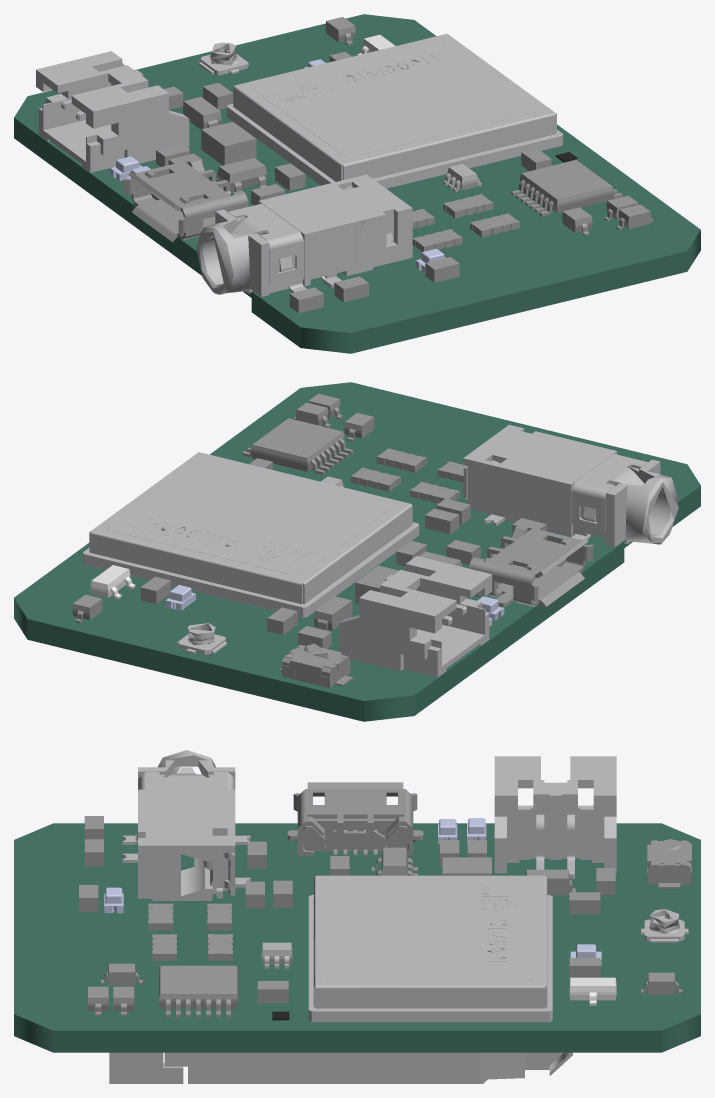
Rendered from ada-1946.glb.
3 views of the same model, one above another, from view 1: azimuth 30°, elevation 25°; view 2: azimuth 150°, elevation 25°; view 3: azimuth 270°, elevation 25° (orthographic). The views are drawn at different scales.
Parts seen in each view (by area): view 1: 0.5833333333333334_0.5833333333333334_0.5833333333333334_0.8, 0.08333333333333333_0.16666666666666666_0.16666666666666666_, 0.3333333333333333_0.3333333333333333_0.3333333333333333_0, 0.5833333333333334_0.6666666666666666_0.8333333333333334_0, 0.5_0.5_0.5_0.85; view 2: 0.5833333333333334_0.5833333333333334_0.5833333333333334_0.8, 0.08333333333333333_0.16666666666666666_0.16666666666666666_, 0.3333333333333333_0.3333333333333333_0.3333333333333333_0, 0.9166666666666666_0.9166666666666666_0.9166666666666666_0.8, 0.5833333333333334_0.6666666666666666_0.8333333333333334_0; view 3: 0.08333333333333333_0.16666666666666666_0.16666666666666666_, 0.5833333333333334_0.5833333333333334_0.5833333333333334_0.8, 0.3333333333333333_0.3333333333333333_0.3333333333333333_0, 0.5833333333333334_0.6666666666666666_0.8333333333333334_0, 0.9166666666666666_0.9166666666666666_0.9166666666666666_0.8, 0.5_0.5_0.5_0.85.
Part boxes in pixels (x1,y1,x2,y2): 0.5833333333333334_0.5833333333333334_0.5833333333333334_0.8: (36, 33, 563, 296); 0.08333333333333333_0.16666666666666666_0.16666666666666666_: (14, 14, 700, 353); 0.3333333333333333_0.3333333333333333_0.3333333333333333_0: (122, 17, 653, 312); 0.5833333333333334_0.6666666666666666_0.8333333333333334_0: (110, 59, 445, 272); 0.5_0.5_0.5_0.85: (443, 164, 481, 192); 0.5833333333333334_0.5833333333333334_0.5833333333333334_0.8: (82, 424, 678, 677); 0.08333333333333333_0.16666666666666666_0.16666666666666666_: (14, 382, 700, 721); 0.3333333333333333_0.3333333333333333_0.3333333333333333_0: (72, 393, 672, 688); 0.9166666666666666_0.9166666666666666_0.9166666666666666_0.8: (90, 565, 135, 599); 0.5833333333333334_0.6666666666666666_0.8333333333333334_0: (165, 585, 504, 626); 0.08333333333333333_0.16666666666666666_0.16666666666666666_: (14, 823, 700, 1052); 0.5833333333333334_0.5833333333333334_0.5833333333333334_0.8: (109, 750, 688, 1083); 0.3333333333333333_0.3333333333333333_0.3333333333333333_0: (79, 782, 691, 1017); 0.5833333333333334_0.6666666666666666_0.8333333333333334_0: (104, 818, 601, 966); 0.9166666666666666_0.9166666666666666_0.9166666666666666_0.8: (569, 977, 616, 1005); 0.5_0.5_0.5_0.85: (261, 942, 292, 968).
Size of the model in its own units: 3.37 by 0.8868 by 4.45.
